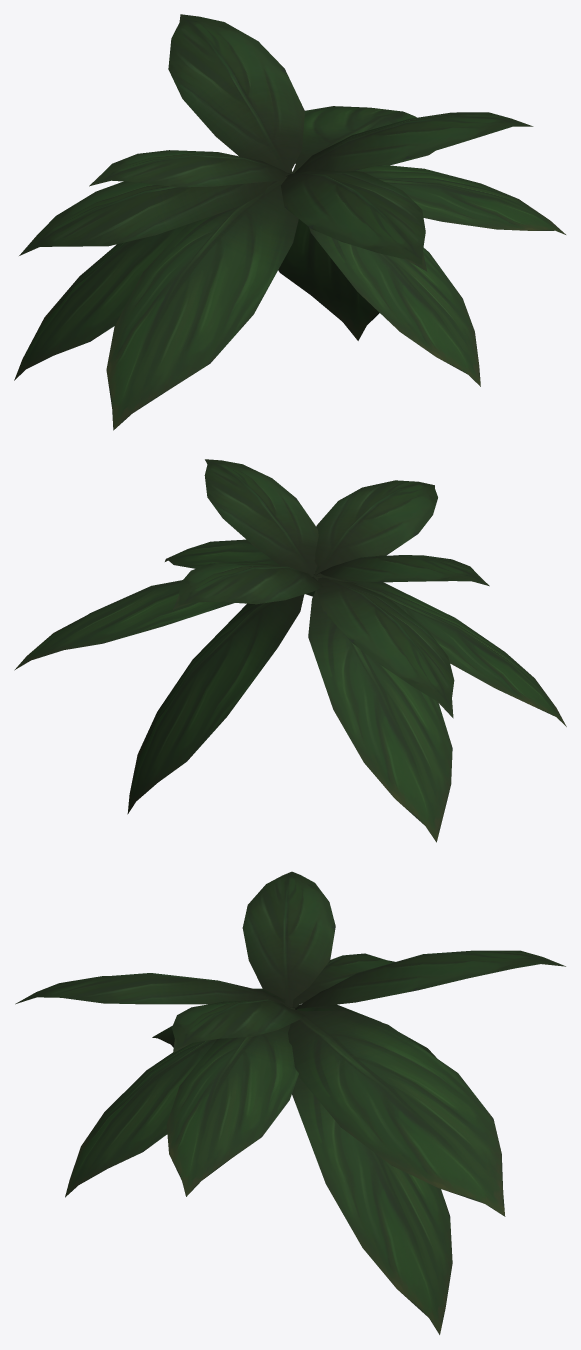
Rendered from Palm_Fronds_03.fbx.
3 renders of one model, top to bottom at view 1: azimuth 30°, elevation 25°; view 2: azimuth 150°, elevation 25°; view 3: azimuth 270°, elevation 25°, orthographic. The views are drawn at different scales.
Parts seen in each view (by area): view 1: Palm_Fronds_03; view 2: Palm_Fronds_03; view 3: Palm_Fronds_03.
Part boxes in pixels (x1=…): Palm_Fronds_03: x1=14, y1=14, x2=565, y2=430; Palm_Fronds_03: x1=14, y1=459, x2=566, y2=842; Palm_Fronds_03: x1=15, y1=871, x2=565, y2=1334.
Bounding box in the file's own units: 5.79 × 3.72 × 5.81.
Materials: 1 (1 with a texture image).
